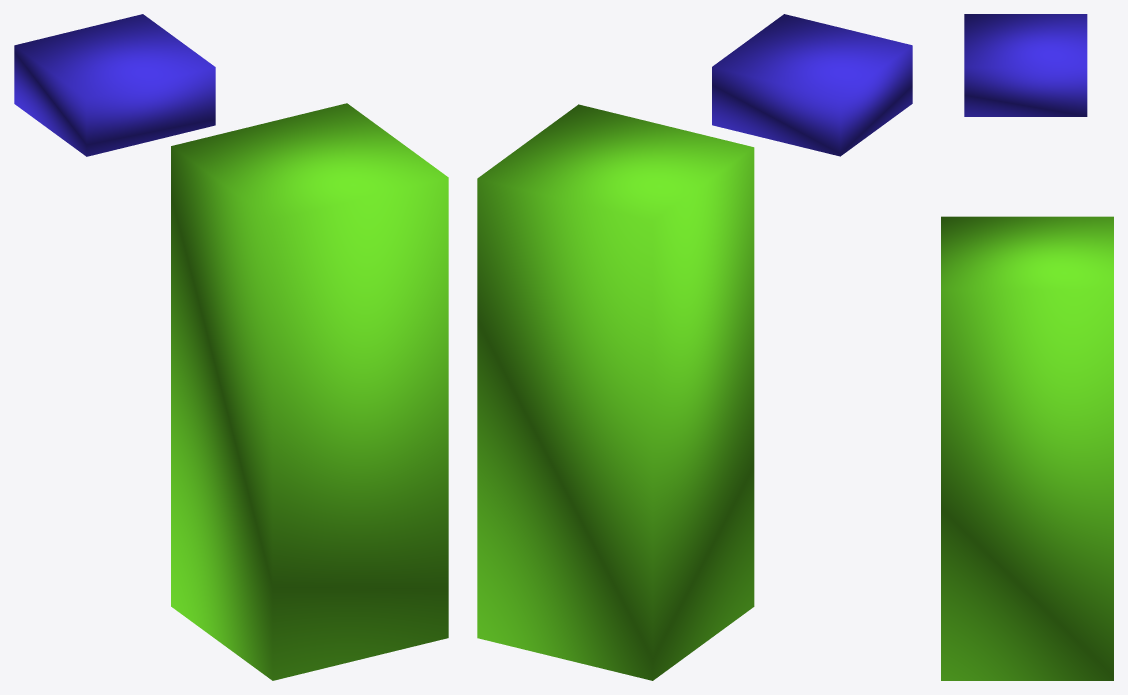
Rendered from lift-bl.gltf.
3 views of the same model, side by side, from view 1: azimuth 30°, elevation 25°; view 2: azimuth 150°, elevation 25°; view 3: azimuth 270°, elevation 25° (orthographic). The views are drawn at different scales.
Visible parts, largest first — view 1: Box001, Box002; view 2: Box001, Box002; view 3: Box001, Box002.
Part boxes in pixels (x1=…): Box001: x1=171, y1=103, x2=448, y2=680; Box002: x1=14, y1=14, x2=215, y2=156; Box001: x1=477, y1=104, x2=754, y2=680; Box002: x1=712, y1=14, x2=912, y2=156; Box001: x1=941, y1=216, x2=1113, y2=680; Box002: x1=964, y1=14, x2=1087, y2=116.
Size of the model in its own units: 40.43 by 68.14 by 20.42.
